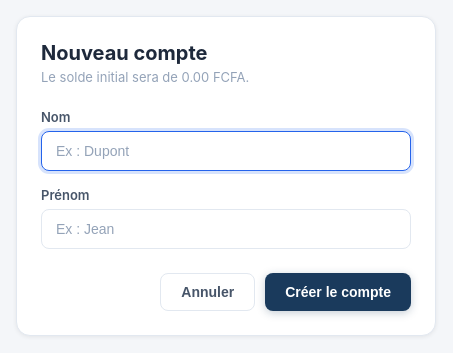
Scenario: CreateAccount — création échouée › désactive le bouton pendant le chargement
Type "Mbarga" into the field with placeholder "Ex : Dupont" at [226, 151], box [41,131,411,171]
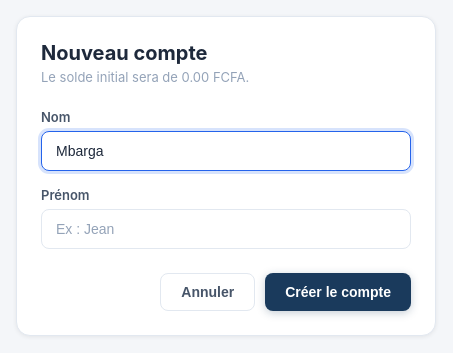
Type "Serge" into the field with placeholder "Ex : Jean" at [226, 229], box [41,209,411,249]
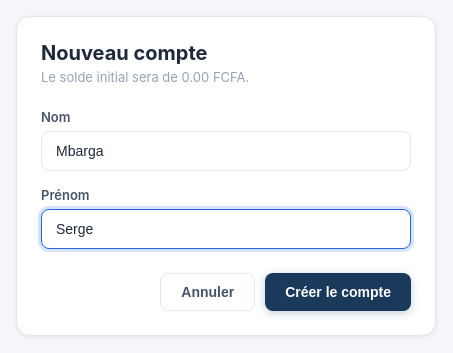
Click the button "Créer le compte" at [338, 292], box [265,273,411,311]
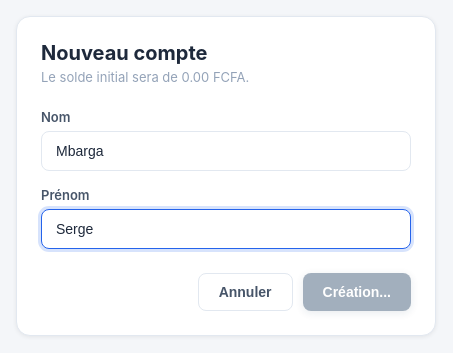
Expected: the button named "Créer le compte" is disabled, [302,273,411,311]
